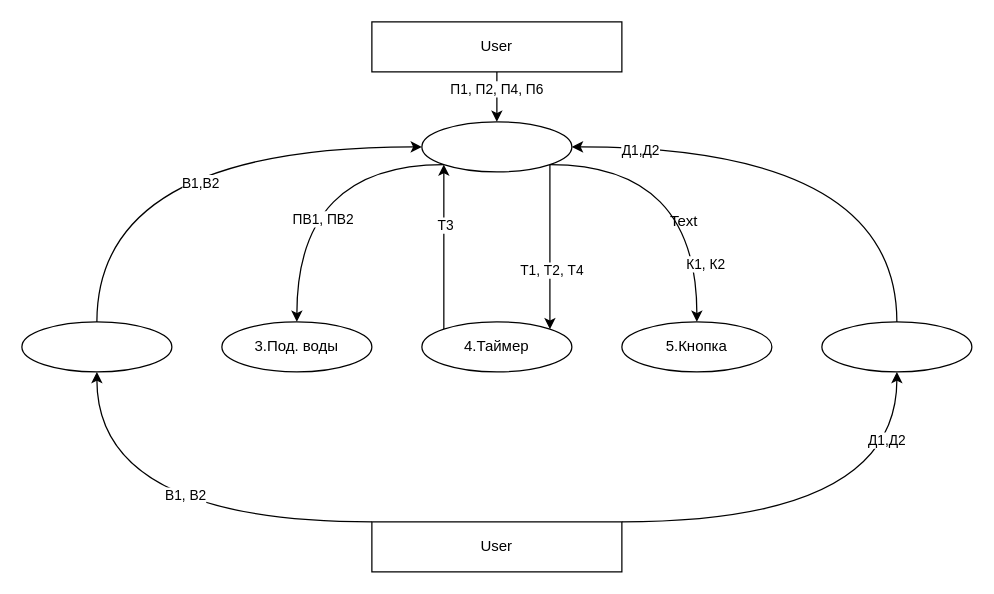
Some shapes in this 994 by 594 pixel diagram are drawn without their labels. The shapes that lost their labels are listed below. From the top down, each one's centre as x and y in pixels, then its label:
At (496,146): "1. Посудомойка".
At (96,346): "2. Вилка".
At (896,346): "6.Дверь".
